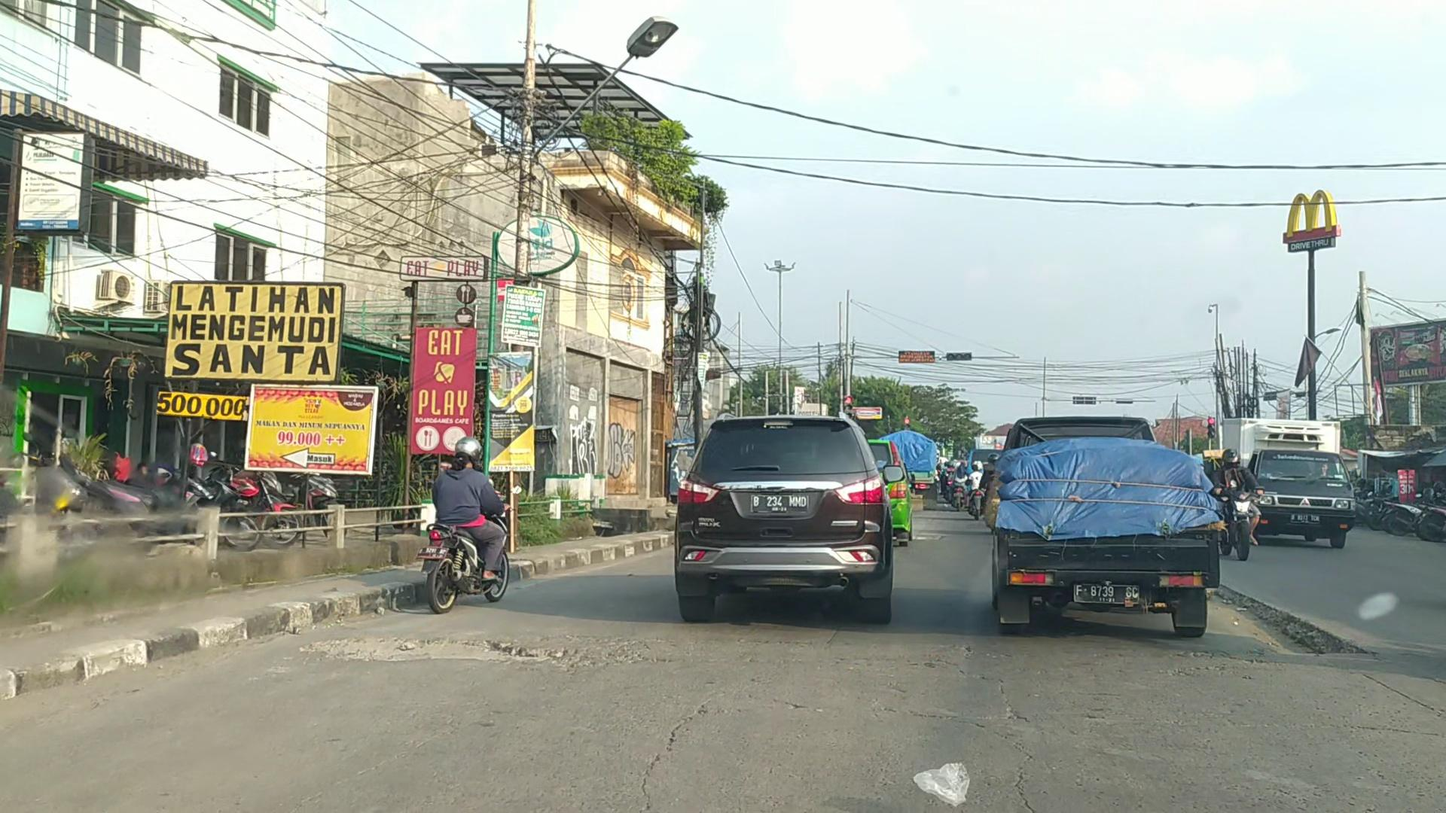pothole: (296, 637, 581, 665)
